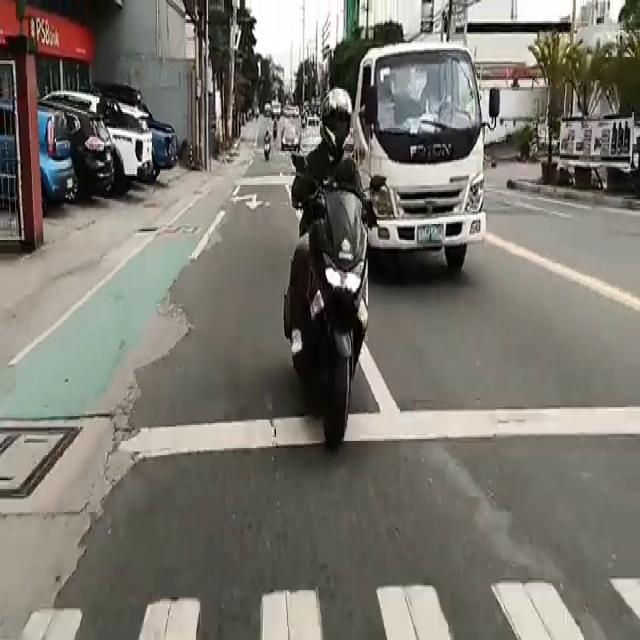car: (0, 109, 68, 216), (282, 124, 298, 150)
motorcycle: (293, 88, 359, 466), (263, 131, 273, 166)
truck: (368, 52, 482, 278)
